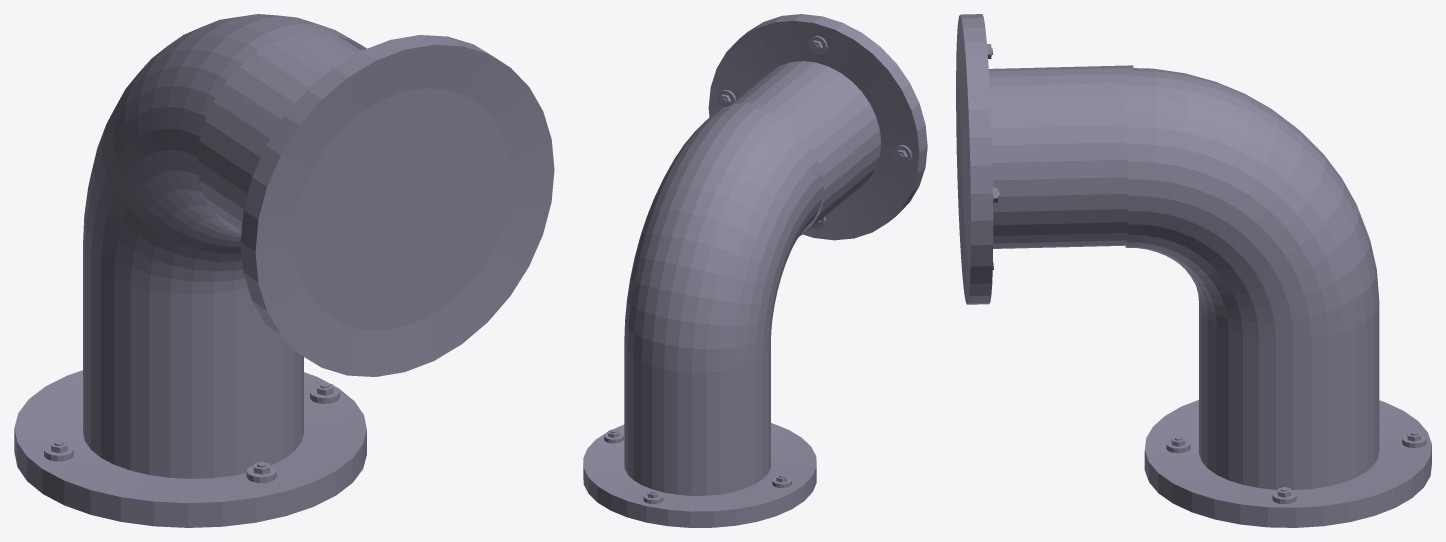
File: SM_pipe_half.fbx
The picture shows the model from 3 angles, left to right: view 1: azimuth 30°, elevation 25°; view 2: azimuth 150°, elevation 25°; view 3: azimuth 270°, elevation 25°; orthographic projection. The views are drawn at different scales.
Visible parts, largest first — view 1: PIPE HALF; view 2: PIPE HALF; view 3: PIPE HALF.
Boxes of the visible parts, x1=… form: PIPE HALF: x1=14, y1=14, x2=554, y2=527; PIPE HALF: x1=583, y1=14, x2=927, y2=527; PIPE HALF: x1=956, y1=14, x2=1431, y2=527.
Size of the model in its own units: 185 by 300 by 290.
